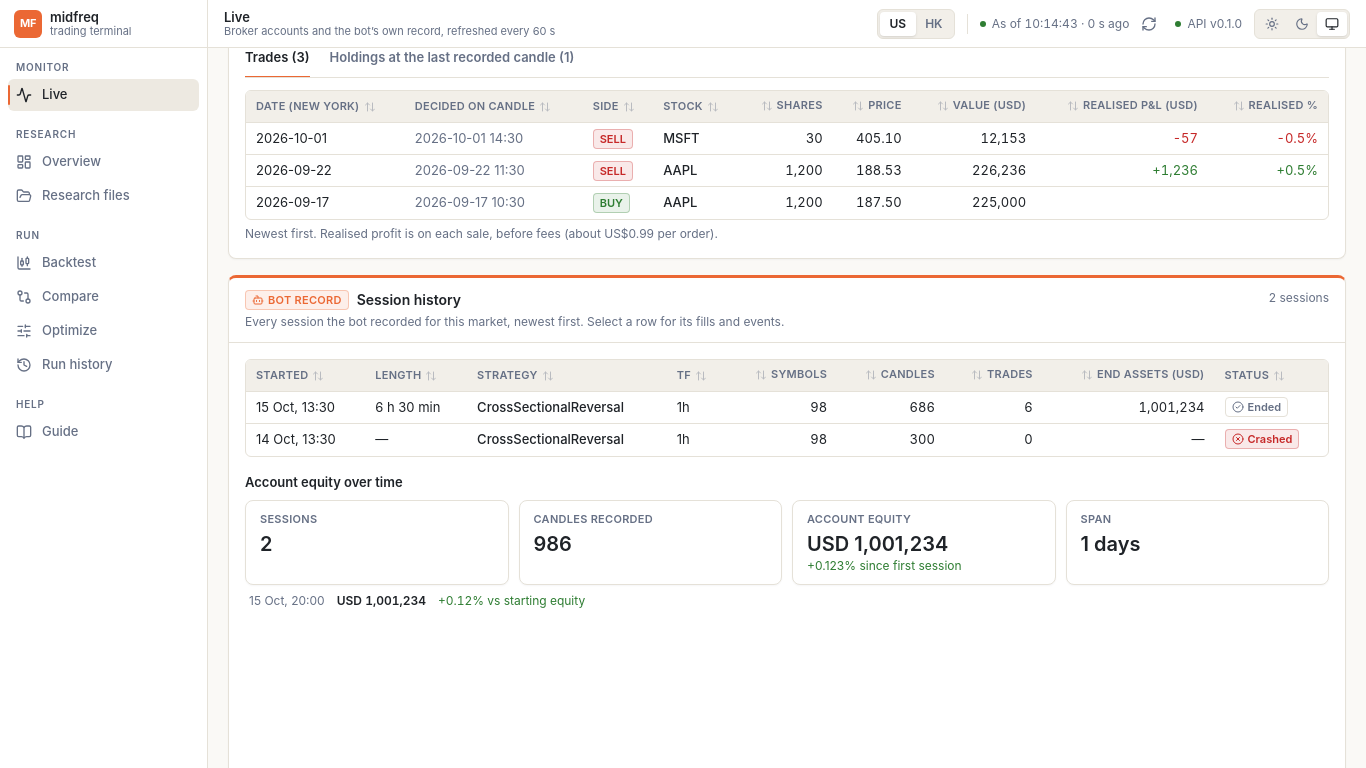
Test case: Live view › lists sessions with end assets and status, and opens one in a drawer
This screenshot has width=1366, height=768.
(page scrolled)
Expected: the row that starts with "15 Oct, 13:30" shows "1,001,234", [1138,399,1204,415]
Expected: the row "14 Oct, 13:30 — CrossSectionalReversal 1h 98 300 0 — Crashed" is shown, [246,424,1328,456]
Click the text "6 h 30 min": (416, 408) [365,392,467,424]
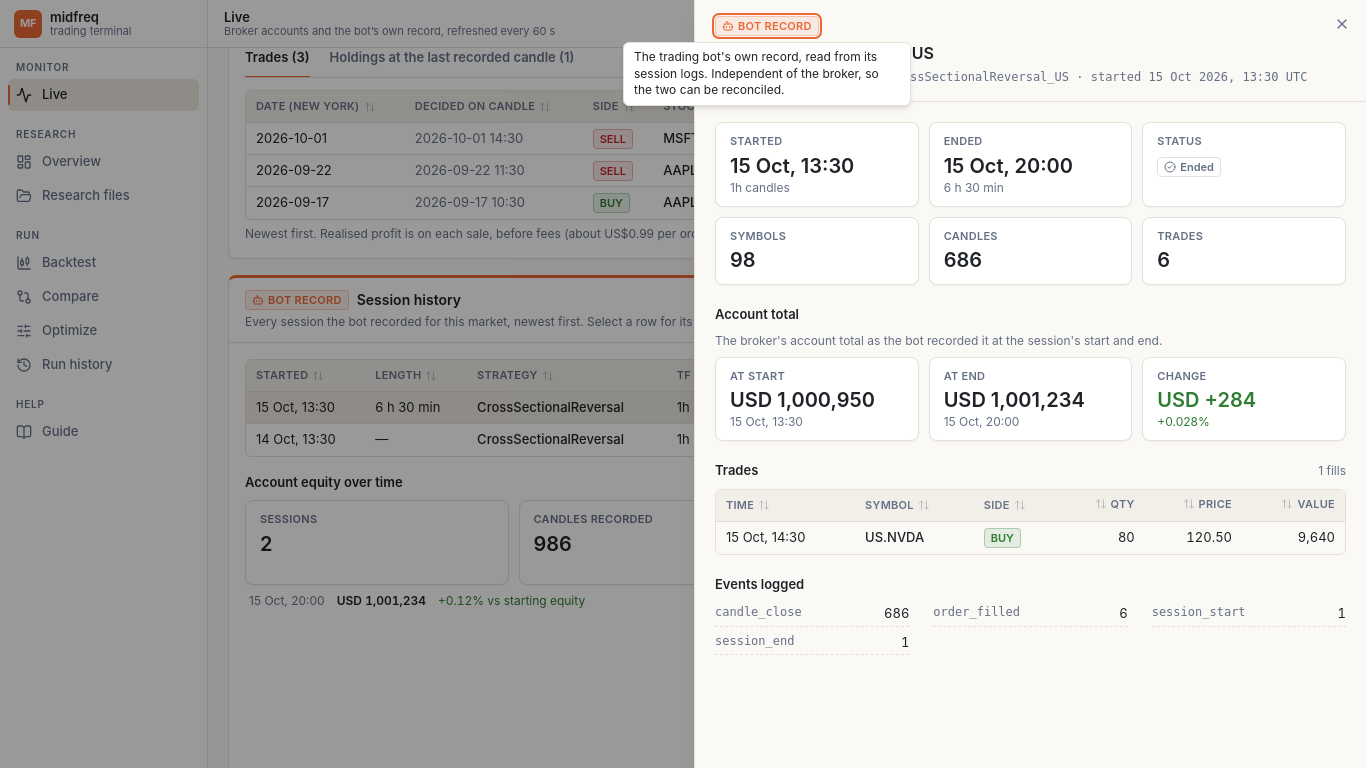
Expected: the heading "CrossSectionalReversal · US" is shown, [715,43,934,63]
Expected: the table named "Session trades" shows "US.NVDA", [865,529,924,545]
Expected: the text "candle_close" is shown, [715,604,802,624]
